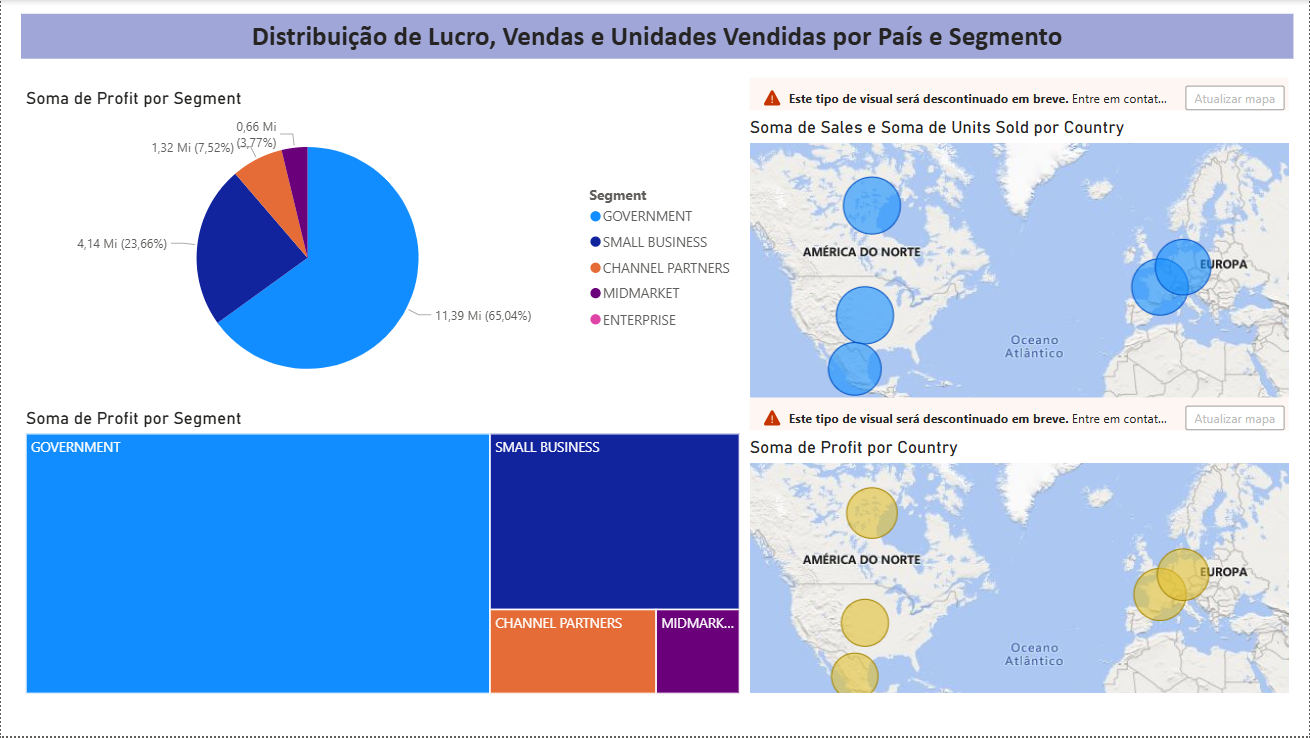

The page's visual inventory and layout, read from the dashboard file:
{"tool":"powerbi","page":{"name":"Distribuição de Lucro, Vendas e Unidades","canvas":[1280,720],"ordinal":2},"visuals":[{"type":"textbox","box":[19.2,13.7,1244.6,43.9],"z":0},{"type":"map","fields":{"Category":["financials.Country"],"Size":["Sum(financials.Sales)"]},"box":[727.6,75.8,536.8,313],"z":1},{"type":"map","fields":{"Category":["financials.Country"],"Size":["Sum(financials.Profit)"]},"box":[727.6,388.9,536.8,288.6],"z":2},{"type":"pieChart","fields":{"Category":["financials.Segment"],"Y":["Sum(financials.Profit)"]},"box":[19.6,85.6,708,313],"z":3},{"type":"treemap","fields":{"Group":["financials.Segment"],"Values":["Sum(financials.Profit)"]},"box":[19.6,398.6,708,284.9],"z":4}]}

Visuals, with their boxes in screenshot pixels (x1, y1, x2, y2), scaled from the page's 1280x720 canvas onto the 1310x738 screenshot:
textbox: 20 14 1293 59
map - financials.Country x Sum(financials.Sales): 745 78 1294 399
map - financials.Country x Sum(financials.Profit): 745 399 1294 694
pieChart - financials.Segment x Sum(financials.Profit): 20 88 745 409
treemap - financials.Segment x Sum(financials.Profit): 20 409 745 701
